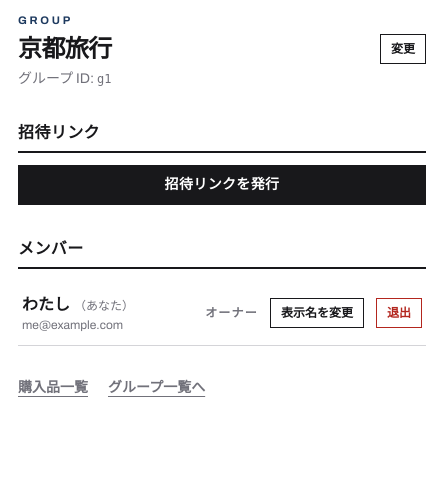
Test: グループ名は現在名がプレフィルされ、保存で PATCH が呼ばれ一覧を再取得しフォームが閉じる
Click the button "変更" at (403, 48), box [380,34,426,64]
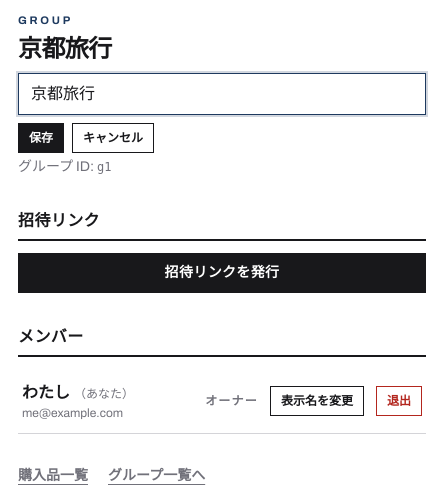
Expected: the heading "京都旅行" is shown, [18,32,112,64]
Expected: the field named "グループ名" holds "京都旅行"
Replace the text in the field named "グループ名" with "  東京旅行  " at (222, 94), box [18,72,426,114]
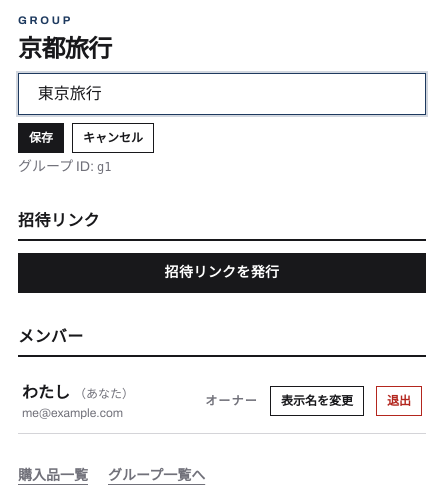
Click the button "保存" at (41, 138), box [18,122,64,152]
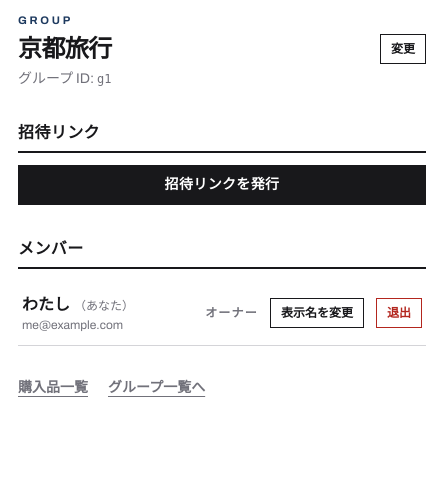
Expected: the field labelled "グループ名" is gone
